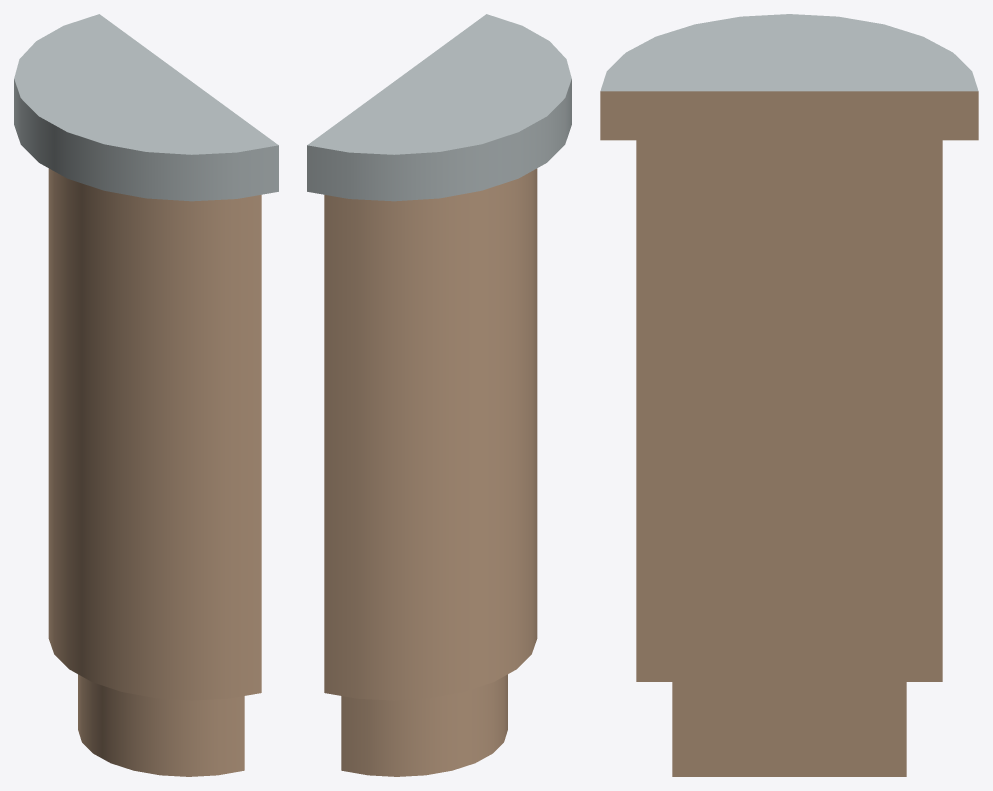
The model's file is kitchenBarEnd.glb.
The picture shows the model from 3 angles, left to right: view 1: azimuth 30°, elevation 25°; view 2: azimuth 150°, elevation 25°; view 3: azimuth 270°, elevation 25°; orthographic projection. The views are drawn at different scales.
Parts seen in each view (by area): view 1: kitchenBarEnd; view 2: kitchenBarEnd; view 3: kitchenBarEnd.
Boxes of the visible parts, x1,y1,x2,y2 form: kitchenBarEnd: (14, 14, 278, 776); kitchenBarEnd: (307, 14, 571, 776); kitchenBarEnd: (600, 14, 978, 776).
Bounding box in the file's own units: 0.1016 × 0.42 × 0.21.
